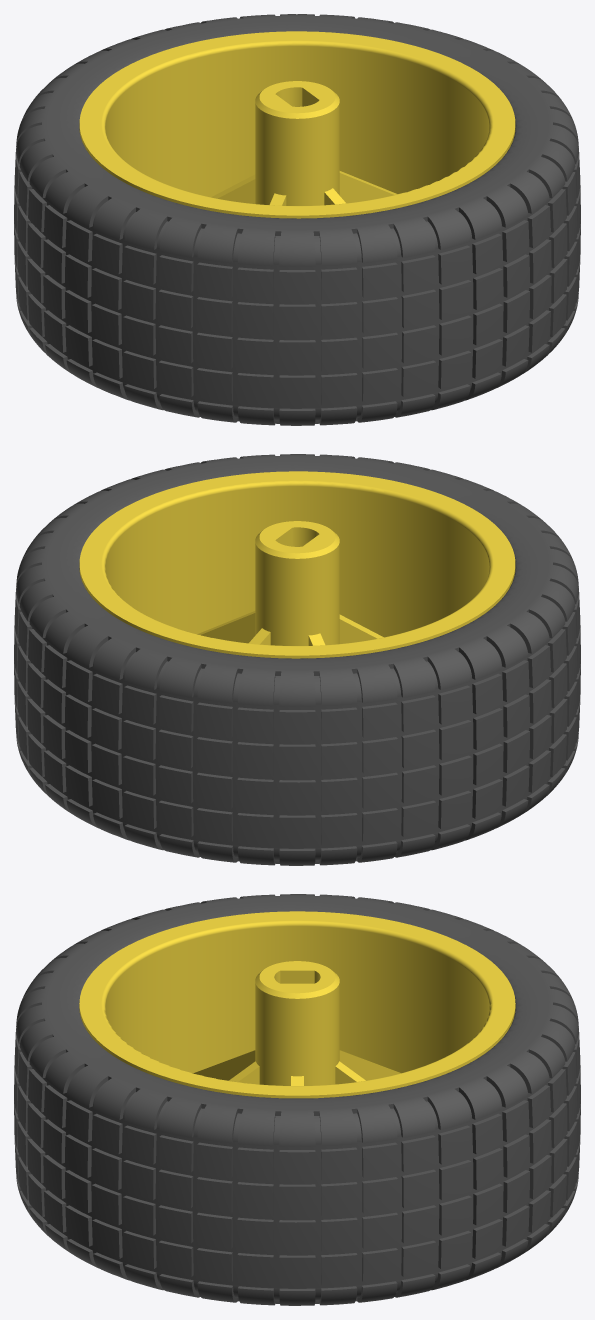
File: tt_motor_wheel_65mm.glb
3 renders of one model, top to bottom at view 1: azimuth 30°, elevation 25°; view 2: azimuth 150°, elevation 25°; view 3: azimuth 270°, elevation 25°, orthographic.
Visible parts, largest first — view 1: tyre, rim; view 2: tyre, rim; view 3: tyre, rim.
Part boxes in pixels (box(x1,y1,x2,y2)): tyre: box(14, 14, 580, 425); rim: box(79, 31, 515, 218); tyre: box(14, 454, 580, 865); rim: box(79, 471, 515, 658); tyre: box(14, 894, 580, 1305); rim: box(79, 911, 515, 1098).
Bounding box in the file's own units: 0.0666 × 0.0284 × 0.0666.
